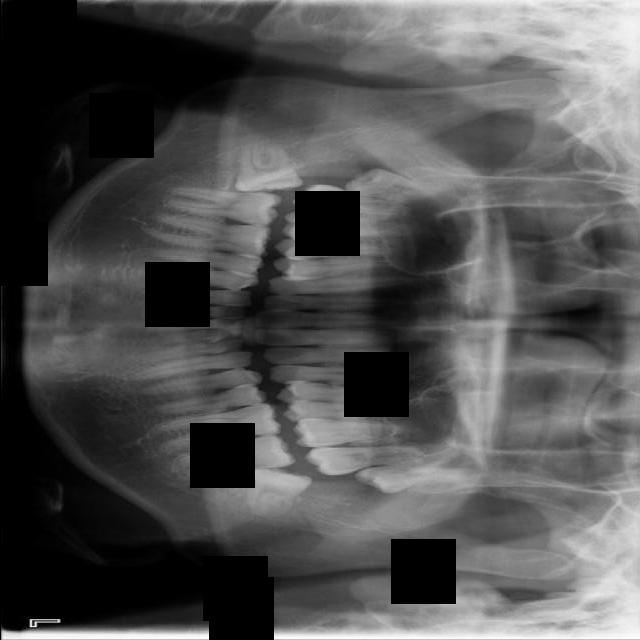3M ESPE Implant: (343, 164, 437, 207)
52: (292, 418, 341, 448)
73: (32, 617, 50, 628)
BioHorizons Implant: (303, 445, 427, 476)
BioLife Implant: (355, 464, 458, 494)
Biomet 3i Implant: (243, 464, 312, 521)
Blue Sky Bio Implant: (176, 431, 294, 478)
Caries: (291, 183, 412, 215)
Implant: (164, 187, 282, 228)
Keystone Dental Implant: (232, 137, 307, 201)
